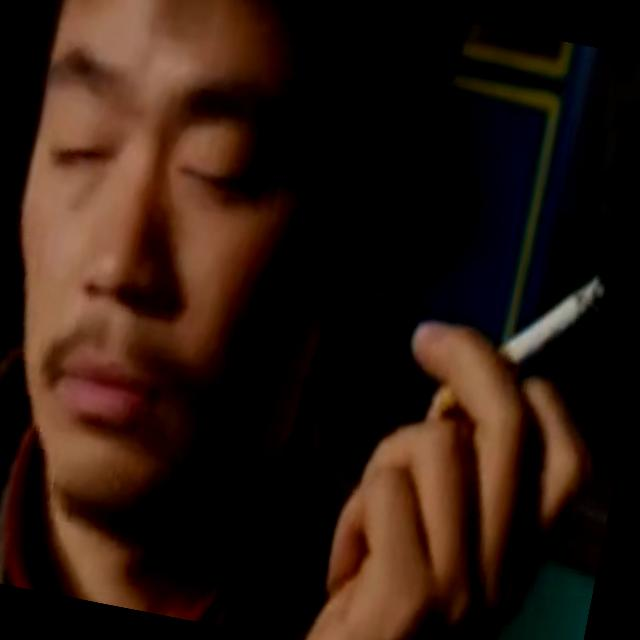cigarette: (497, 266, 612, 384)
